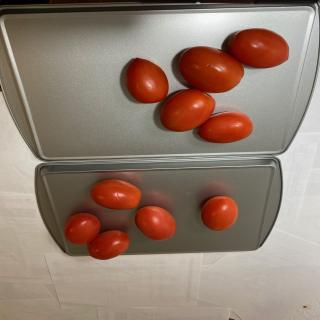Tomato: (178, 46, 244, 93), (228, 28, 290, 68), (160, 88, 215, 132), (125, 57, 169, 104), (197, 112, 253, 144), (90, 179, 142, 210), (134, 206, 177, 241), (201, 196, 238, 231), (87, 230, 130, 260), (64, 212, 100, 245)
